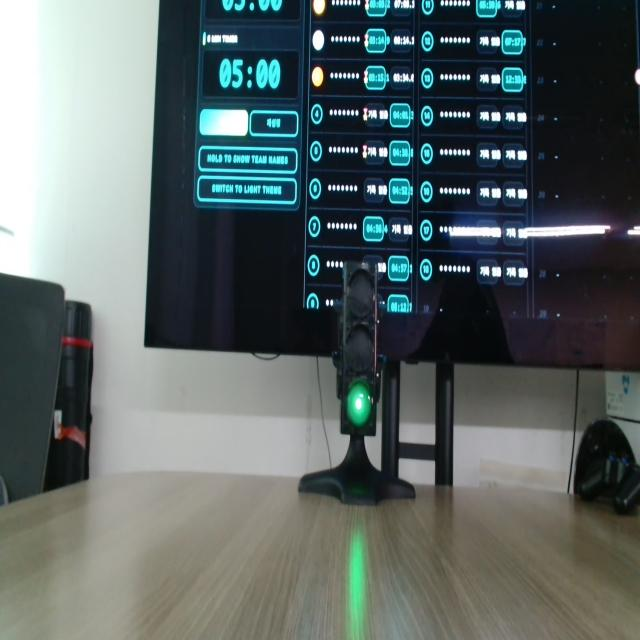green_light: (347, 381, 372, 427)
